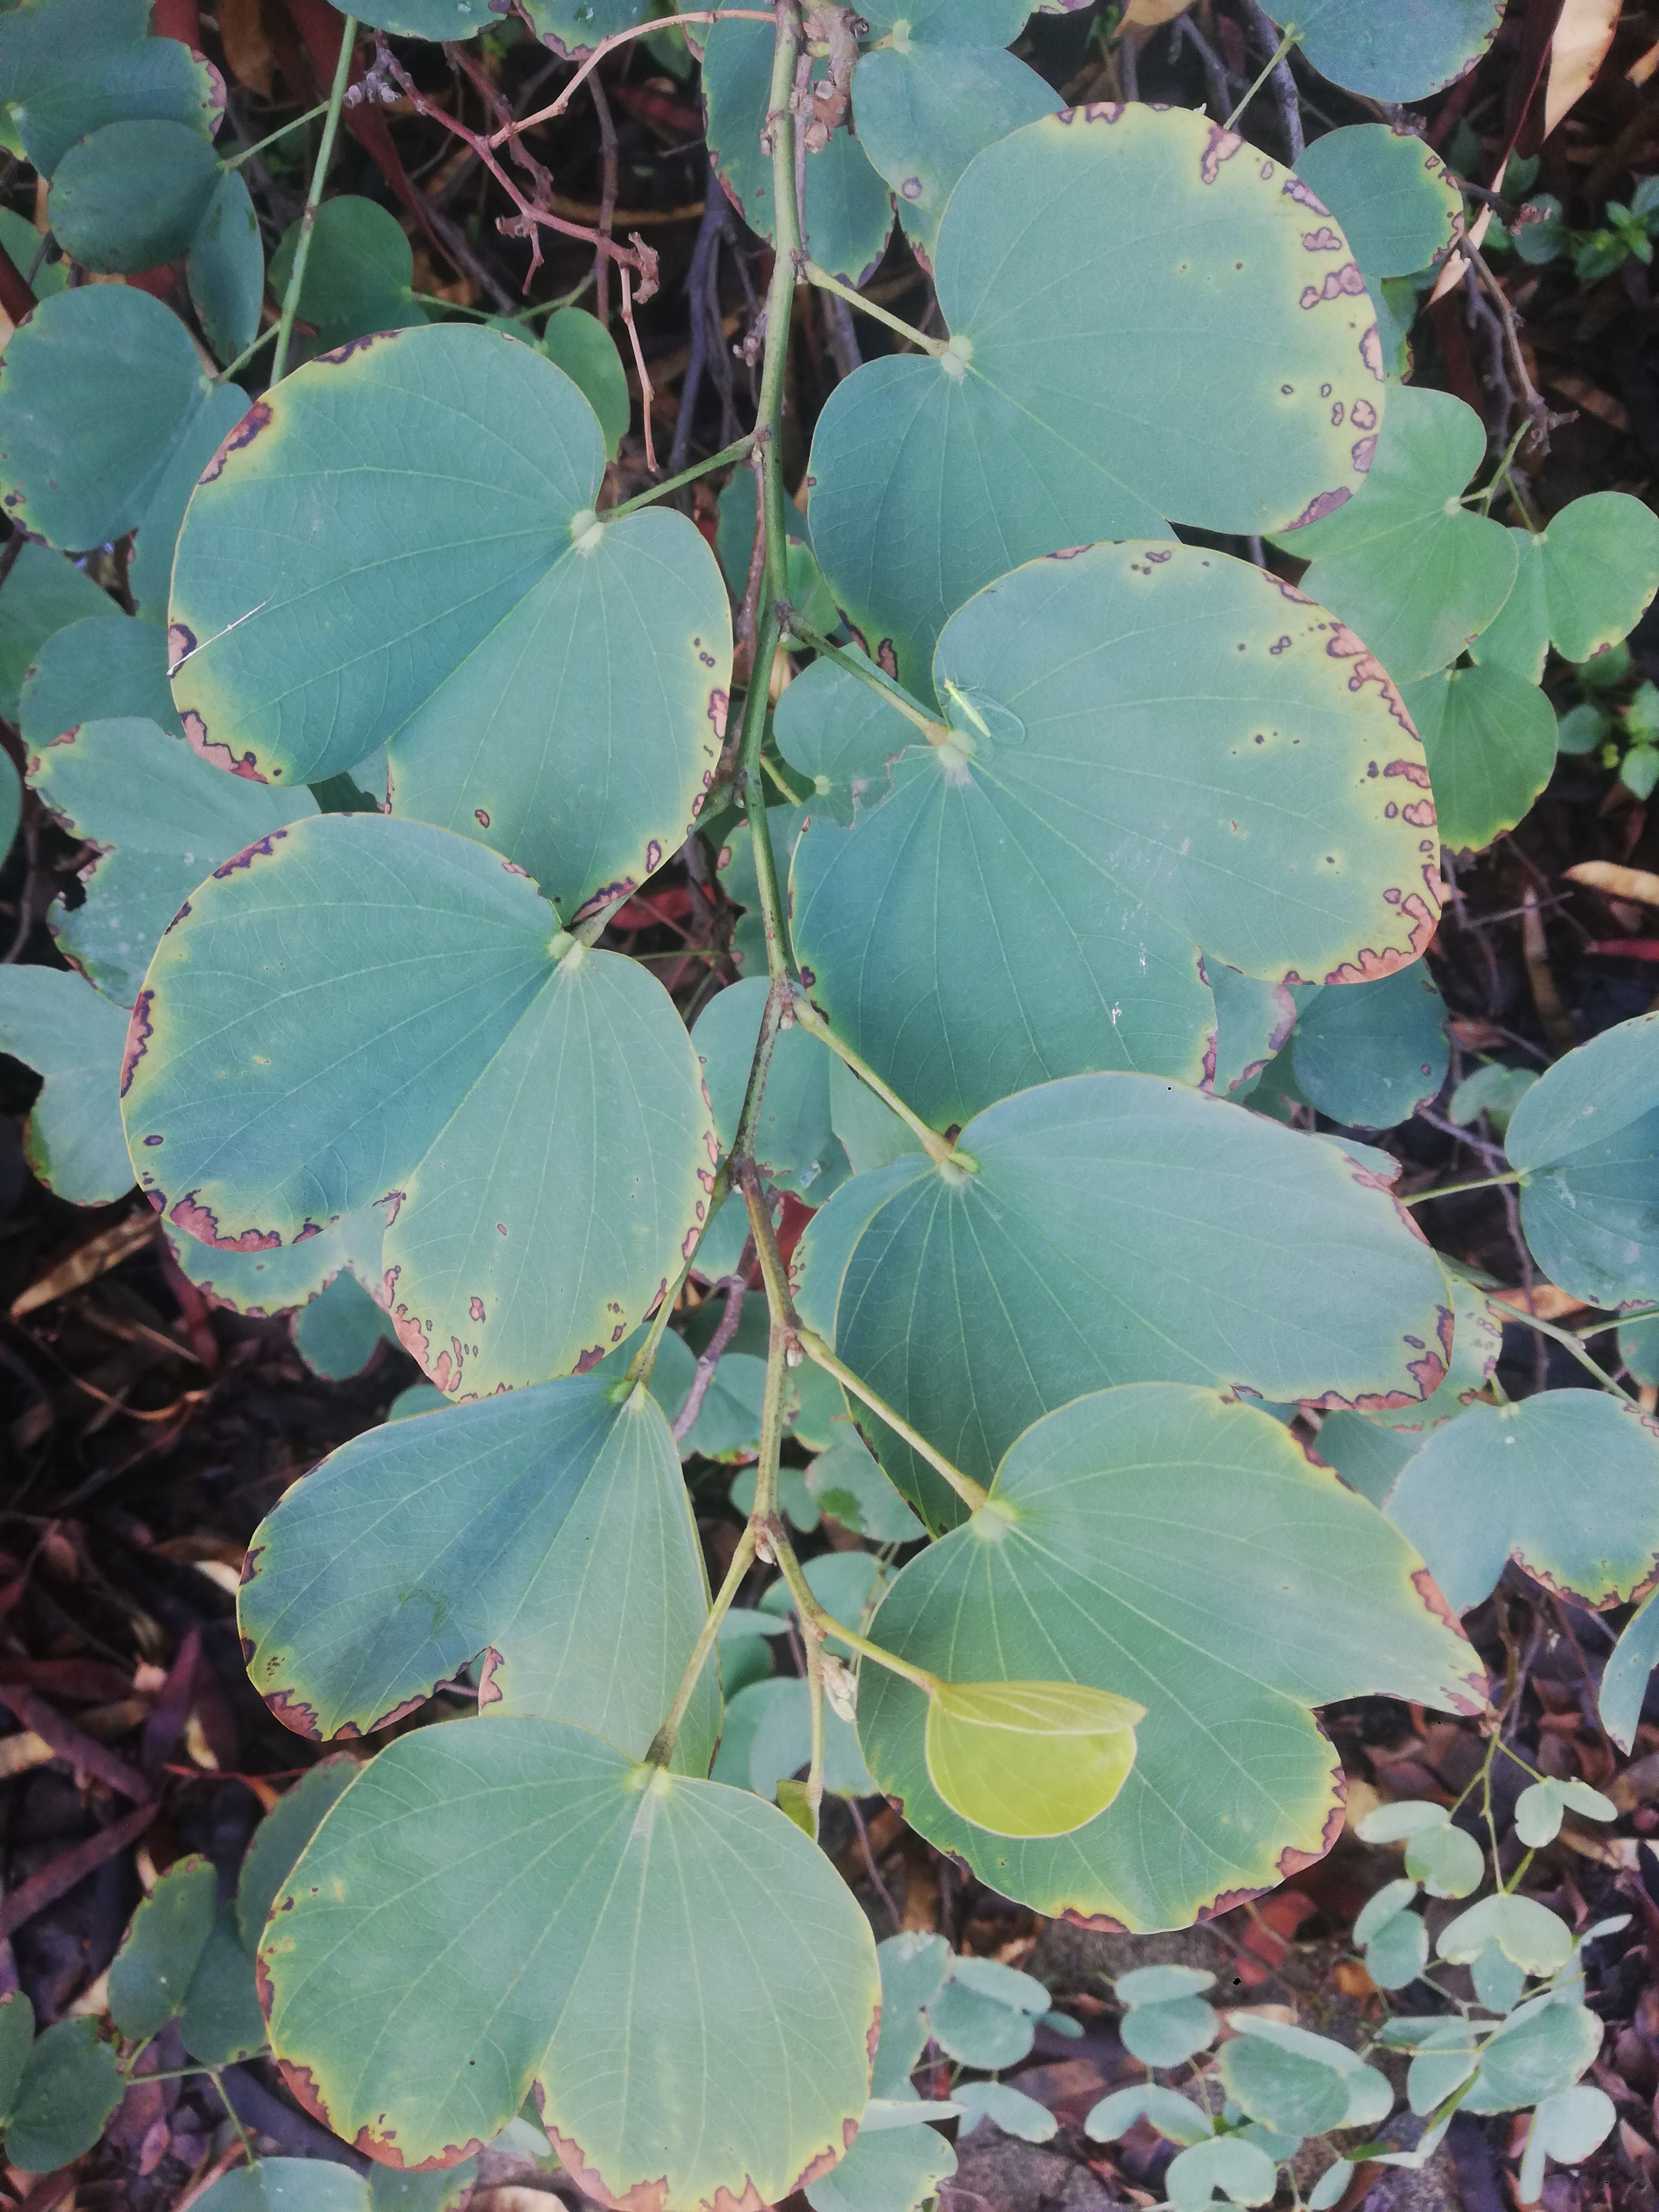nothealthy: (103, 756, 770, 1374), (796, 514, 1445, 1125), (225, 1676, 950, 2193), (153, 307, 809, 876), (877, 1390, 1532, 1952), (816, 59, 1389, 688), (807, 1055, 1462, 1451), (214, 1336, 742, 1784)
